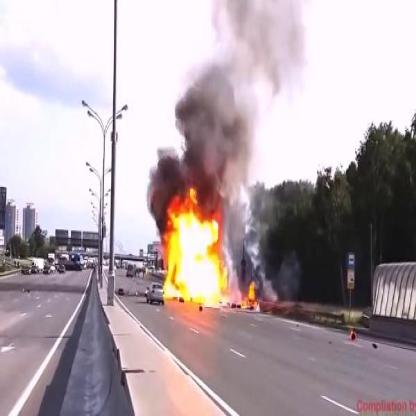fire: (159, 187, 229, 308), (241, 274, 259, 313)
